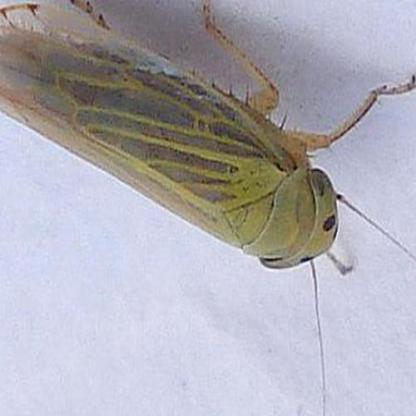green-leafhopper: (0, 1, 415, 274)
